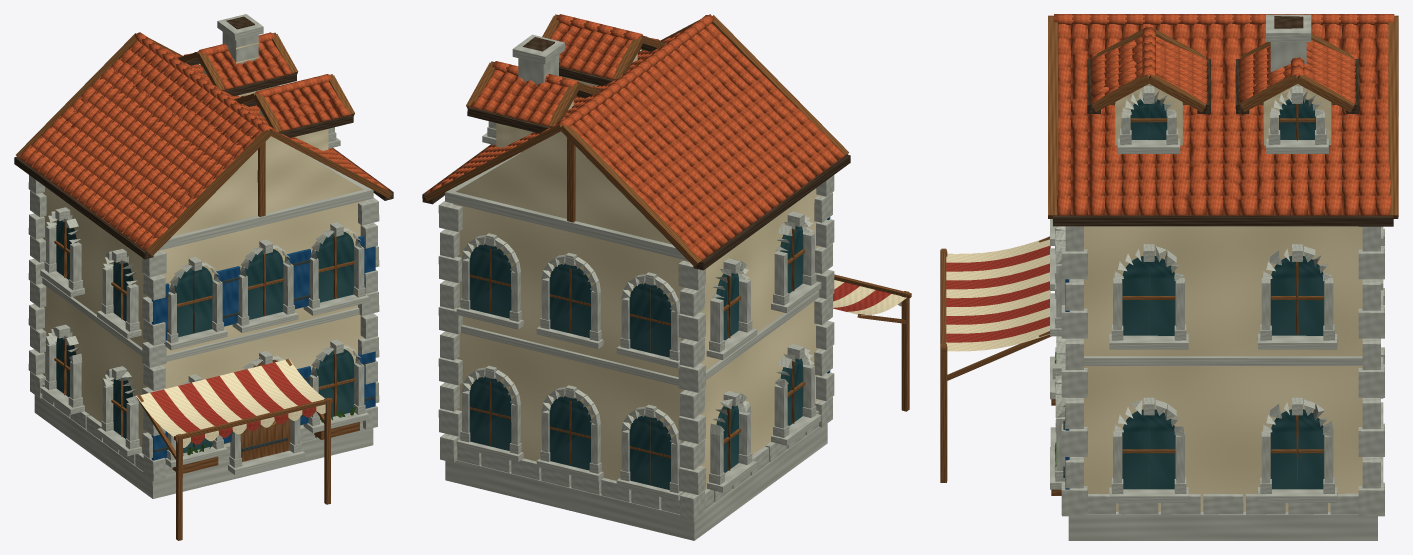
Rendered from market_shop.glb.
3 renders of one model, left to right at view 1: azimuth 30°, elevation 25°; view 2: azimuth 150°, elevation 25°; view 3: azimuth 270°, elevation 25°, orthographic. The views are drawn at different scales.
Visible parts, largest first — view 1: market_shop_Structure.001, market_shop_Roof.001, market_shop_Joinery.001, market_shop_Detail.001, market_shop_Glazing.001, market_shop_Cloth.001, market_shop_Metalwork.001; view 2: market_shop_Structure.001, market_shop_Roof.001, market_shop_Detail.001, market_shop_Glazing.001, market_shop_Joinery.001, market_shop_Cloth.001; view 3: market_shop_Structure.001, market_shop_Roof.001, market_shop_Detail.001, market_shop_Joinery.001, market_shop_Glazing.001, market_shop_Cloth.001.
Boxes of the visible parts, bbox=[...] form: market_shop_Structure.001: bbox=[28, 14, 379, 498]; market_shop_Roof.001: bbox=[19, 32, 388, 250]; market_shop_Joinery.001: bbox=[14, 32, 393, 540]; market_shop_Detail.001: bbox=[40, 85, 369, 474]; market_shop_Glazing.001: bbox=[56, 220, 354, 453]; market_shop_Cloth.001: bbox=[136, 359, 325, 447]; market_shop_Metalwork.001: bbox=[154, 246, 375, 452]; market_shop_Structure.001: bbox=[438, 34, 834, 540]; market_shop_Roof.001: bbox=[427, 14, 845, 260]; market_shop_Detail.001: bbox=[456, 76, 821, 500]; market_shop_Glazing.001: bbox=[469, 226, 803, 489]; market_shop_Joinery.001: bbox=[422, 14, 911, 484]; market_shop_Cloth.001: bbox=[833, 280, 908, 315]; market_shop_Structure.001: bbox=[1061, 14, 1384, 540]; market_shop_Roof.001: bbox=[1054, 14, 1394, 215]; market_shop_Detail.001: bbox=[1050, 86, 1383, 503]; market_shop_Joinery.001: bbox=[940, 15, 1398, 495]; market_shop_Glazing.001: bbox=[1122, 98, 1324, 489]; market_shop_Cloth.001: bbox=[946, 239, 1050, 351].
Size of the model in its own units: 6.62 by 9.08 by 7.71.
Materials: 4 (4 with a texture image).
